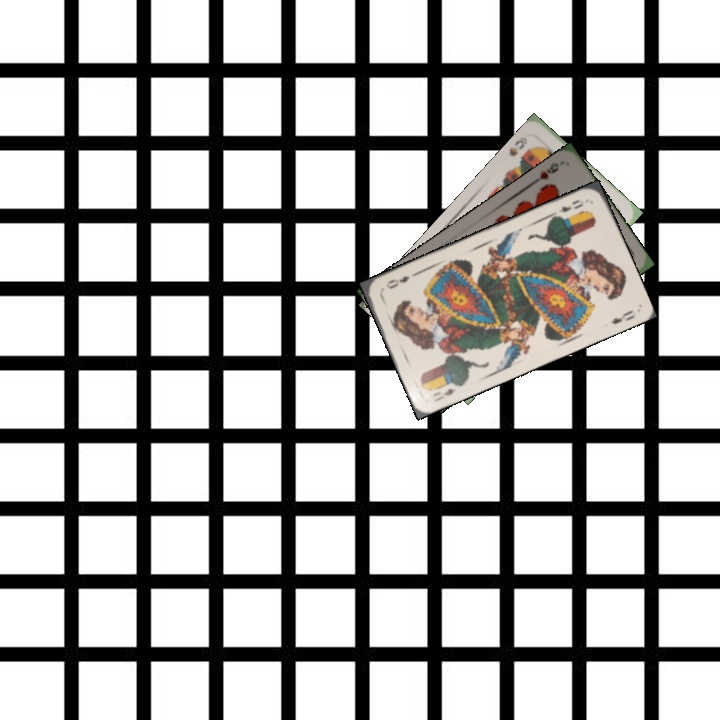EO: (552, 195, 587, 221), (429, 384, 458, 404)
H9: (529, 158, 565, 186)
S8: (505, 133, 530, 159)
